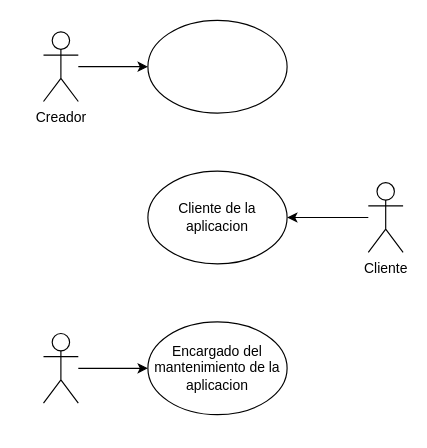
Some shapes in this 427 by 448 pixel diagram are drawn without their labels. Each missing label, with the box of its shape:
Creador de la aplicacion: (147, 19, 287, 113)
Programador: (42, 332, 78, 403)
